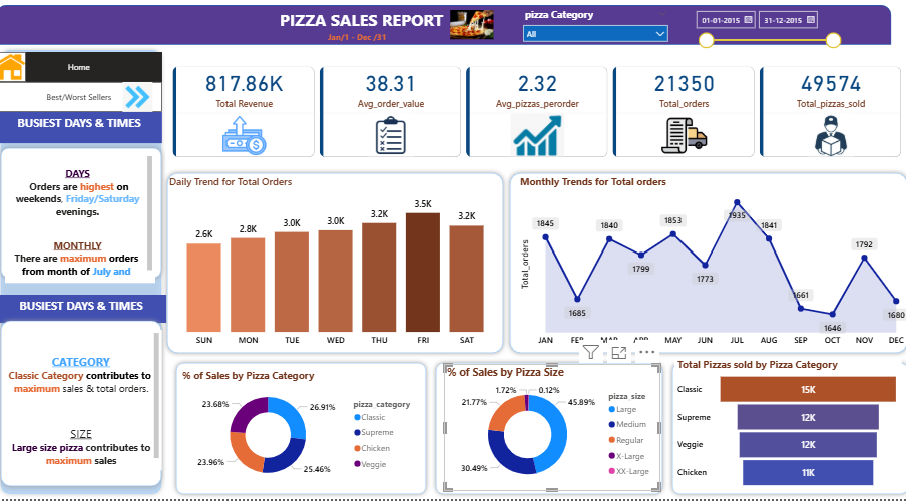

This screenshot's page, from the dashboard's own definition file:
{"tool":"powerbi","page":{"name":"Home","canvas":[1500,820],"ordinal":0},"visuals":[{"type":"cardVisual","fields":{"Data":["pizza_sales.Total Revenue","pizza_sales.Avg_order_value","pizza_sales.Avg_pizzas_perorder","pizza_sales.Total_order","pizza_sales.Total_pizzas_sold"]},"box":[272.2,95.1,1228.4,183.7],"z":0},{"type":"shape","box":[0,11.2,1465,65],"z":1000},{"type":"textbox","box":[378.8,11.2,438.8,65],"z":2000},{"type":"textbox","box":[537.5,50,148.8,51.2],"z":3000},{"type":"image","box":[677.5,20,202.5,47.5],"z":4000},{"type":"shape","box":[272.2,278.8,565.8,310],"z":5000},{"type":"columnChart","title":"Daily Trend for Total Orders","fields":{"Category":["pizza_sales.Order Day"],"Y":["pizza_sales.Total_order"]},"box":[278.8,290.3,554.3,287],"z":6000},{"type":"shape","box":[833.1,278.8,665.8,310],"z":7000},{"type":"areaChart","title":"Monthly Trends for Total orders","fields":{"Category":["pizza_sales.Order Month"],"Y":["pizza_sales.Total_orders"]},"box":[852.8,290.3,646.2,287],"z":8000},{"type":"shape","box":[287,588.8,424.8,231.2],"z":9000},{"type":"shape","box":[711.8,588.8,387,231.2],"z":10000},{"type":"shape","box":[1098.8,588.8,401.8,231.2],"z":11000},{"type":"donutChart","title":"% of Sales by Pizza Category","fields":{"Category":["pizza_sales.pizza_category"],"Y":["pizza_sales.Total Revenue"]},"box":[300.1,606.8,398.5,195.2],"z":12000},{"type":"donutChart","title":"% of Sales by Pizza Size","fields":{"Y":["pizza_sales.Total Revenue"],"Category":["pizza_sales.pizza_size"]},"box":[733.1,598.6,354.2,208.3],"z":13000},{"type":"funnel","title":"Total Pizzas sold by Pizza Category","fields":{"Category":["pizza_sales.pizza_category"],"Y":["pizza_sales.Total_pizzas_sold"]},"box":[1110.3,588.8,372.3,218.1],"z":14000},{"type":"shape","box":[0,77.1,278.8,742.9],"z":15000},{"type":"textbox","box":[0,187,272.2,50.8],"z":16000},{"type":"shape","box":[0,237.8,278.8,228],"z":17000},{"type":"textbox","box":[14.8,254.2,246,211.6],"z":18000},{"type":"textbox","box":[0,485.4,278.8,45.9],"z":19000},{"type":"shape","box":[0,519.9,278.8,287],"z":20000},{"type":"textbox","box":[14.8,542.8,257.5,229.6],"z":21000},{"type":"slicer","fields":{"Values":["pizza_sales.pizza_category"]},"box":[852.8,11.5,257.5,64],"z":22000},{"type":"slicer","fields":{"Values":["pizza_sales.order_date"]},"box":[1133.2,11.5,257.5,83.6],"z":23000},{"type":"pageNavigator","box":[0,137.8,272.2,49.2],"z":24000},{"type":"pageNavigator","box":[0,88.6,272.2,49.2],"z":25000},{"type":"image","box":[0,88.6,47.6,49.2],"z":25001},{"type":"image","box":[203.4,137.8,57.4,49.2],"z":25002}]}

Visuals, with their boxes in screenshot pixels (x1, y1, x2, y2), scaled from the page's 1500x820 canvas onto the 906x502 screenshot:
cardVisual - pizza_sales.Total Revenue x pizza_sales.Avg_order_value: box=[164, 58, 905, 171]
shape: box=[0, 7, 885, 47]
textbox: box=[229, 7, 494, 47]
textbox: box=[325, 31, 415, 62]
image: box=[409, 12, 532, 41]
shape: box=[164, 171, 506, 360]
"Daily Trend for Total Orders" columnChart: box=[168, 178, 503, 353]
shape: box=[503, 171, 905, 360]
"Monthly Trends for Total orders" areaChart: box=[515, 178, 905, 353]
shape: box=[173, 360, 430, 501]
shape: box=[430, 360, 664, 501]
shape: box=[664, 360, 905, 501]
"% of Sales by Pizza Category" donutChart: box=[181, 371, 422, 491]
"% of Sales by Pizza Size" donutChart: box=[443, 366, 657, 494]
"Total Pizzas sold by Pizza Category" funnel: box=[671, 360, 895, 494]
shape: box=[0, 47, 168, 501]
textbox: box=[0, 114, 164, 146]
shape: box=[0, 146, 168, 285]
textbox: box=[9, 156, 158, 285]
textbox: box=[0, 297, 168, 325]
shape: box=[0, 318, 168, 494]
textbox: box=[9, 332, 164, 473]
slicer - pizza_sales.pizza_category: box=[515, 7, 671, 46]
slicer - pizza_sales.order_date: box=[684, 7, 840, 58]
pageNavigator: box=[0, 84, 164, 114]
pageNavigator: box=[0, 54, 164, 84]
image: box=[0, 54, 29, 84]
image: box=[123, 84, 158, 114]
